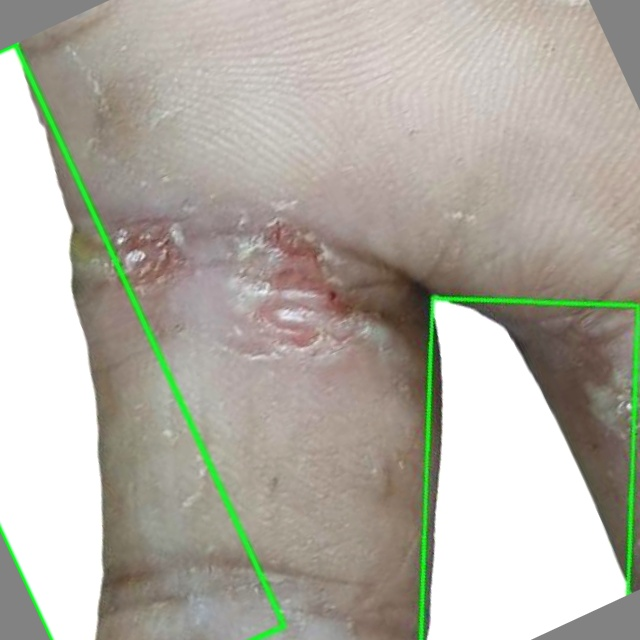Scabies: (0, 44, 284, 639), (421, 298, 639, 639)
